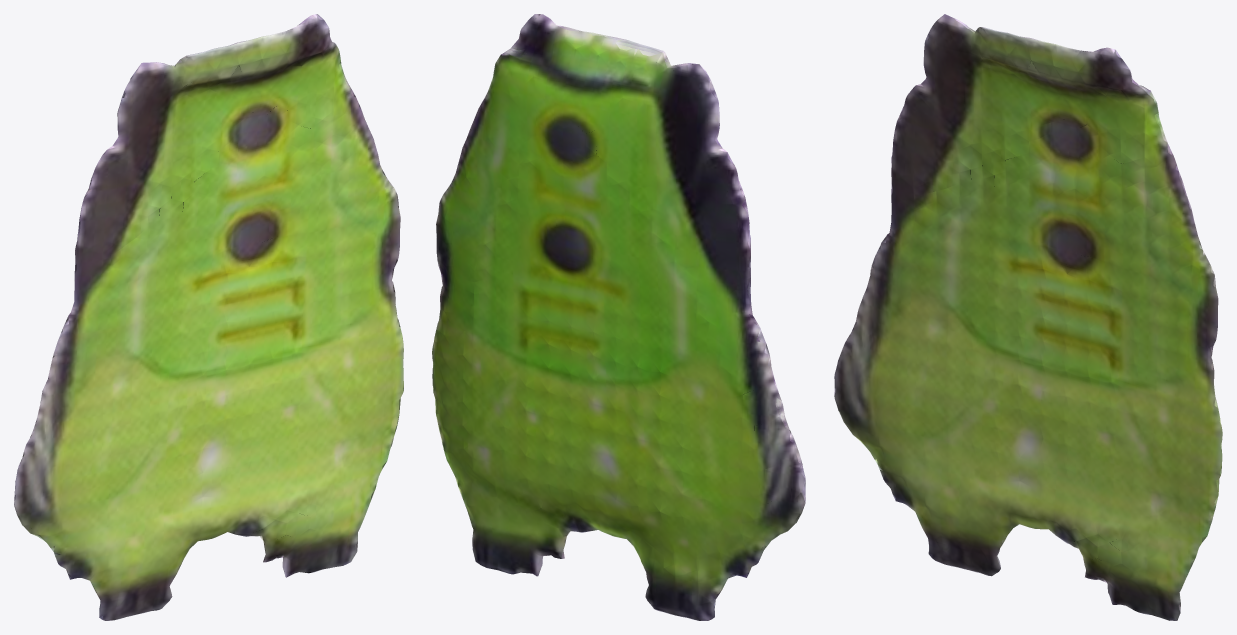
The picture shows the model from 3 angles, left to right: view 1: azimuth 30°, elevation 25°; view 2: azimuth 150°, elevation 25°; view 3: azimuth 330°, elevation 25°; orthographic projection. The views are drawn at different scales.
Parts seen in each view (by area): view 1: world; view 2: world; view 3: world.
Boxes of the visible parts, box(x1,y1,x2,y2) form: world: box(14, 14, 403, 620); world: box(432, 14, 805, 620); world: box(834, 14, 1222, 620).
Size of the model in its own units: 0.7315 by 1.03 by 0.086.
1 material, 1 textured.
